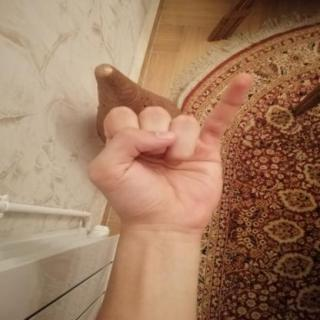MEEM: (70, 62, 272, 243)
